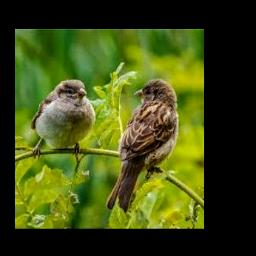Sparrow: (106, 78, 178, 212), (30, 80, 95, 159)
